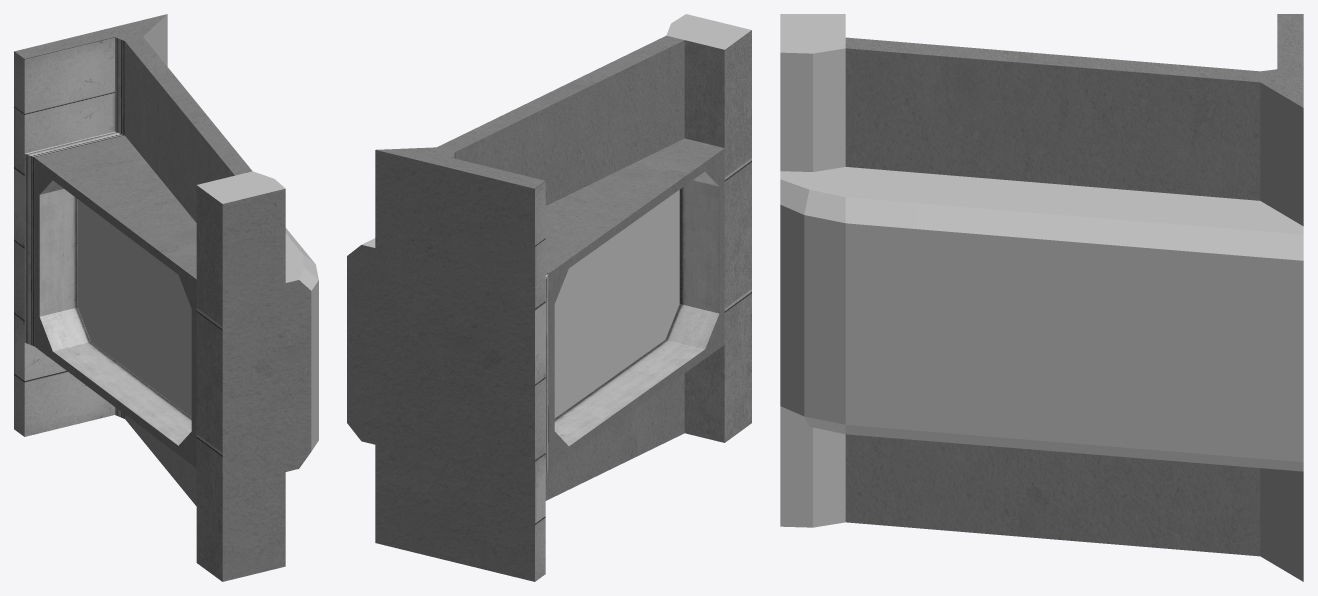
Rendered from Side_room_wall_middle.fbx.
3 renders of one model, left to right at view 1: azimuth 30°, elevation 25°; view 2: azimuth 150°, elevation 25°; view 3: azimuth 270°, elevation 25°, orthographic. The views are drawn at different scales.
Parts seen in each view (by area): view 1: Side_room_wall_middle; view 2: Side_room_wall_middle; view 3: Side_room_wall_middle.
Boxes of the visible parts, <box> form: Side_room_wall_middle: <box>14,14,318,581</box>; Side_room_wall_middle: <box>347,14,751,581</box>; Side_room_wall_middle: <box>780,14,1303,581</box>.
Bounding box in the file's own units: 2 × 4 × 4.
